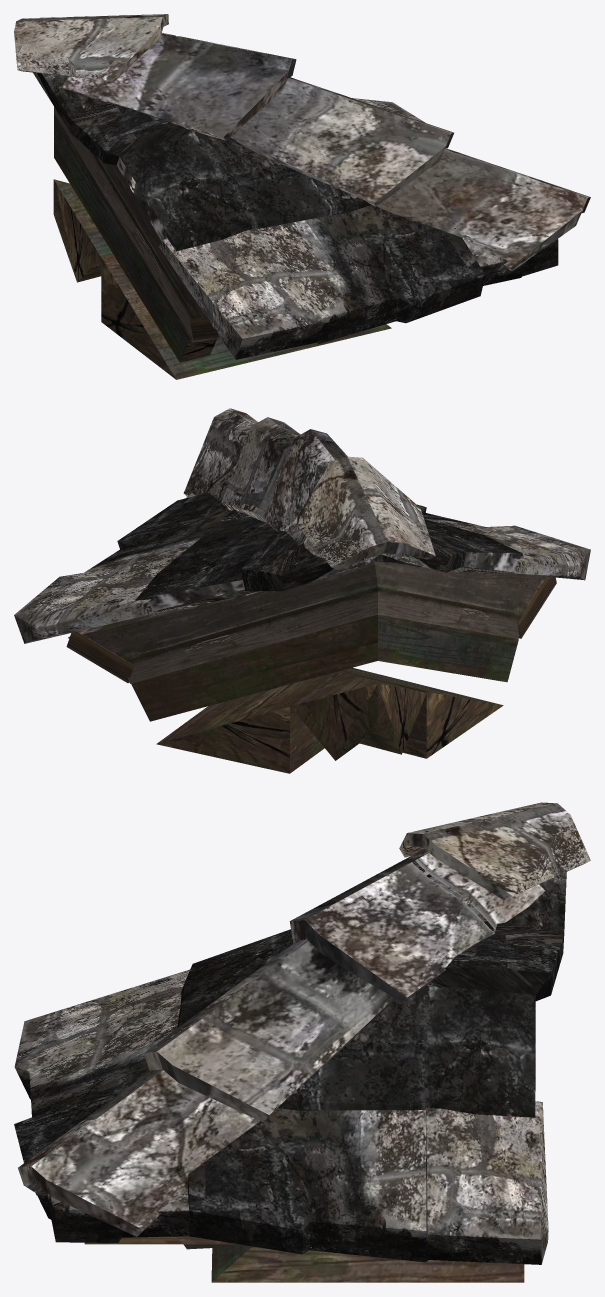
3 views of the same model, one above another, from view 1: azimuth 30°, elevation 25°; view 2: azimuth 150°, elevation 25°; view 3: azimuth 270°, elevation 25° (orthographic). The views are drawn at different scales.
Parts seen in each view (by area): view 1: SM_T3_Roof_Small_Hip_Shallow_LOD0; view 2: SM_T3_Roof_Small_Hip_Shallow_LOD0; view 3: SM_T3_Roof_Small_Hip_Shallow_LOD0.
Part boxes in pixels (bbox=[...]): SM_T3_Roof_Small_Hip_Shallow_LOD0: bbox=[14, 14, 590, 379]; SM_T3_Roof_Small_Hip_Shallow_LOD0: bbox=[14, 408, 590, 773]; SM_T3_Roof_Small_Hip_Shallow_LOD0: bbox=[14, 802, 590, 1282].
Bounding box in the file's own units: 1.4 × 0.9696 × 1.41.
Materials: 3 (3 with a texture image).
